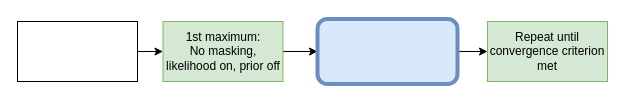
Some shapes in this 625 by 103 pixel diagram are drawn without their labels. Each missing label, with the centre of its shape:
"2nd maximum: Masking, prior on, likelihood off" belongs at (x=387, y=51).
"Initialize fields drawn from Gaussian normal field" belongs at (x=77, y=51).
